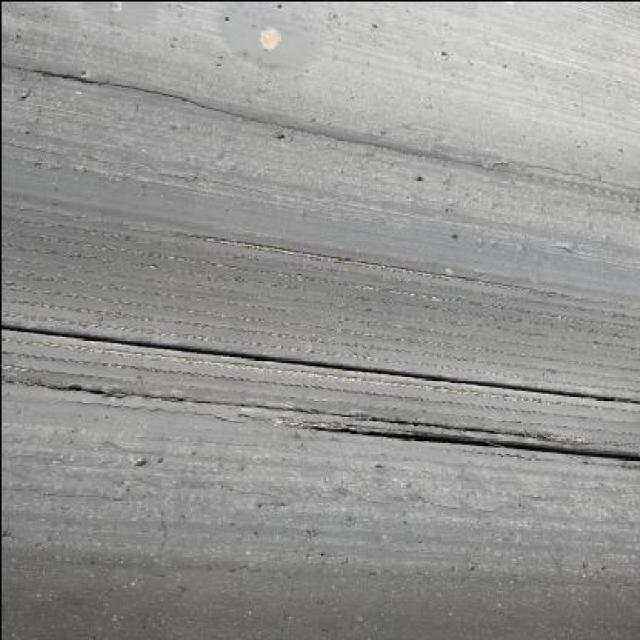Tear: (0, 316, 640, 409), (0, 367, 573, 448), (284, 414, 640, 467), (0, 56, 238, 121)
Wear: (1, 202, 638, 401)
